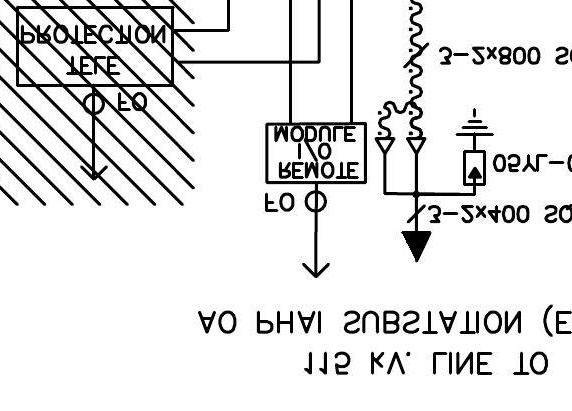115_la: (455, 107, 495, 187)
remote_io_module: (263, 120, 369, 186)
tele_protection: (13, 3, 176, 89)
terminator_double: (373, 136, 428, 196)
